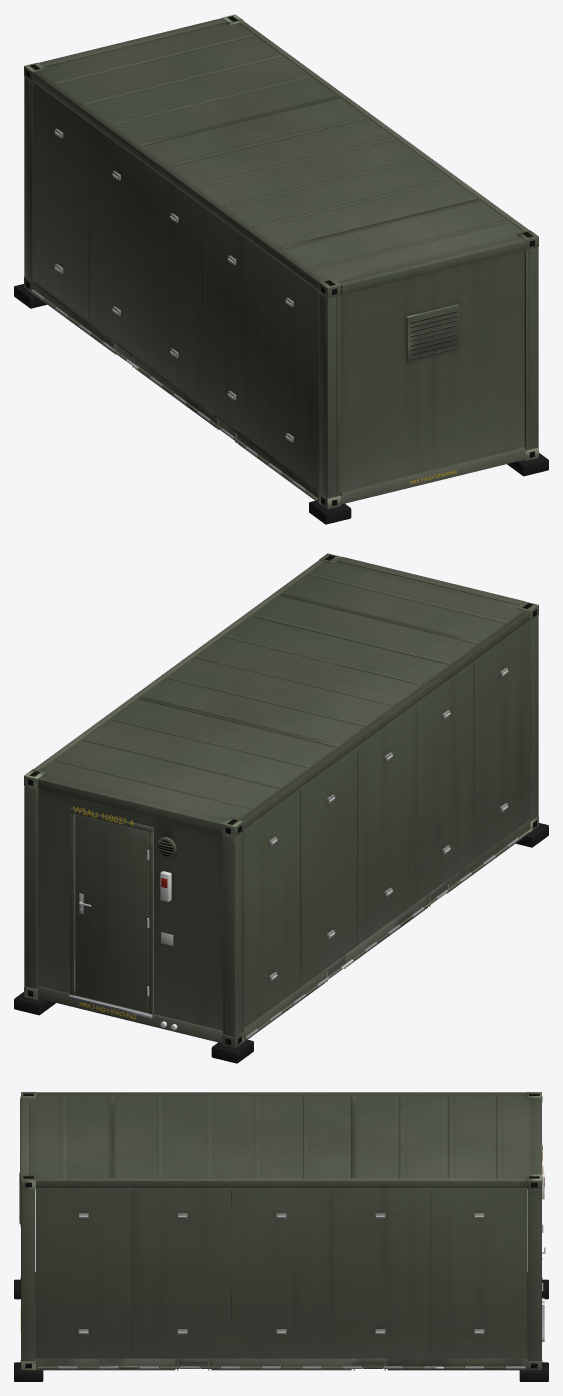
The model's file is hercon-stowed.glb.
3 renders of one model, top to bottom at view 1: azimuth 30°, elevation 25°; view 2: azimuth 150°, elevation 25°; view 3: azimuth 270°, elevation 25°, orthographic. The views are drawn at different scales.
Parts seen in each view (by area): view 1: HERCON_core, HERCON_side_panels; view 2: HERCON_core, HERCON_side_panels; view 3: HERCON_side_panels, HERCON_core.
Part boxes in pixels (x1,y1,x2,y2): HERCON_core: (14, 14, 548, 524); HERCON_side_panels: (31, 81, 319, 500); HERCON_core: (14, 553, 548, 1063); HERCON_side_panels: (243, 620, 531, 1039); HERCON_side_panels: (35, 1188, 527, 1368); HERCON_core: (14, 1092, 548, 1381).
Bounding box in the file's own units: 2.58 × 2.56 × 6.22.
Materials: 11 (4 with a texture image).
